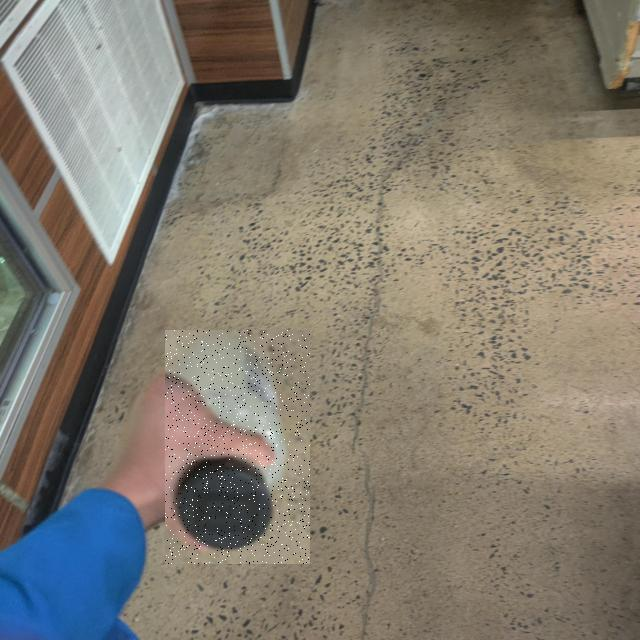Juice: (165, 331, 310, 565)
